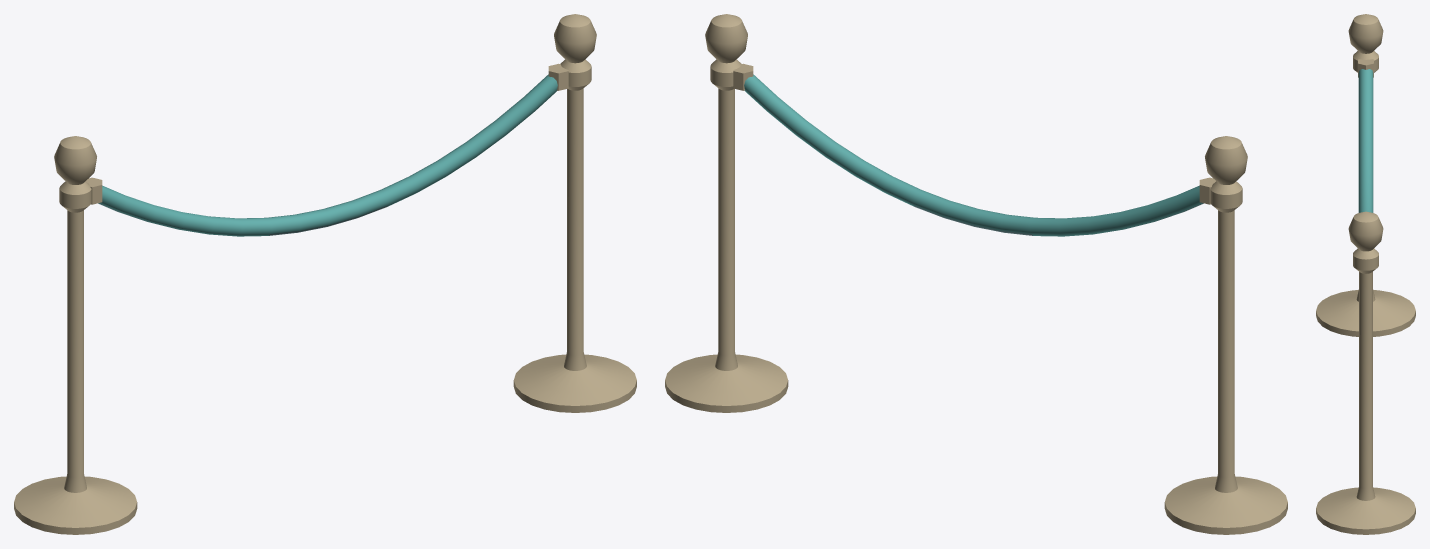
Rendered from KC32__AD_Int_Stanchion_Rope.glb.
3 renders of one model, left to right at view 1: azimuth 30°, elevation 25°; view 2: azimuth 150°, elevation 25°; view 3: azimuth 270°, elevation 25°, orthographic. The views are drawn at different scales.
Parts seen in each view (by area): view 1: KC32_BRONZE__AD_Int_Stanchion_Rope, KC32_CORPS__AD_Int_Stanchion_Rope; view 2: KC32_BRONZE__AD_Int_Stanchion_Rope, KC32_CORPS__AD_Int_Stanchion_Rope; view 3: KC32_BRONZE__AD_Int_Stanchion_Rope, KC32_CORPS__AD_Int_Stanchion_Rope.
Boxes of the visible parts, x1,y1,x2,y2 form: KC32_BRONZE__AD_Int_Stanchion_Rope: (14, 14, 636, 534); KC32_CORPS__AD_Int_Stanchion_Rope: (98, 74, 557, 236); KC32_BRONZE__AD_Int_Stanchion_Rope: (665, 14, 1287, 534); KC32_CORPS__AD_Int_Stanchion_Rope: (744, 74, 1203, 236); KC32_BRONZE__AD_Int_Stanchion_Rope: (1316, 14, 1415, 534); KC32_CORPS__AD_Int_Stanchion_Rope: (1358, 69, 1373, 212).
Bounding box in the file's own units: 1.82 × 1.07 × 0.32.
